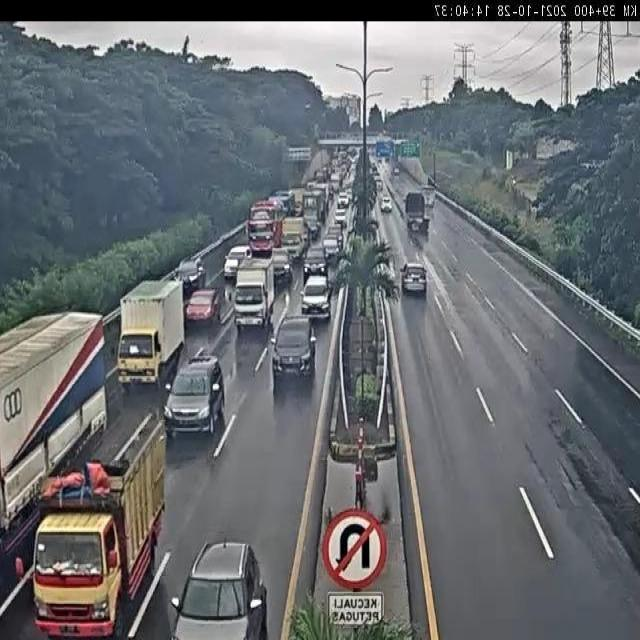Bus: (243, 201, 283, 255)
Car: (168, 537, 266, 640), (165, 355, 225, 444), (270, 316, 318, 388), (298, 275, 333, 323), (185, 288, 221, 329), (171, 258, 205, 288), (224, 245, 254, 276), (399, 263, 428, 295), (302, 245, 329, 277), (321, 235, 340, 264), (325, 225, 345, 249), (333, 208, 347, 226), (380, 196, 393, 212)
Truck: (31, 408, 169, 640), (0, 307, 108, 571), (110, 278, 184, 394), (227, 257, 276, 332), (402, 192, 431, 236)
